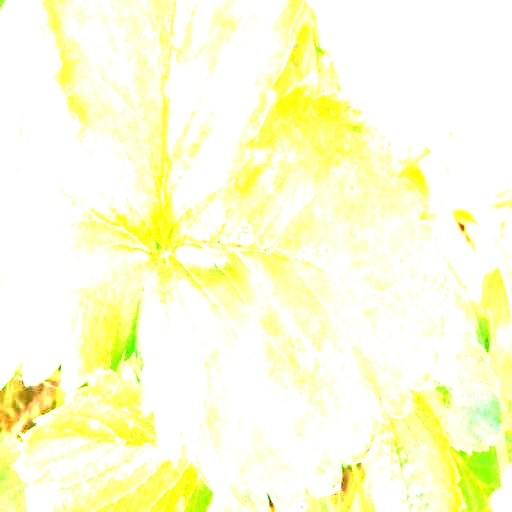Leaf Spot: (135, 70, 453, 511), (32, 0, 307, 251), (306, 0, 511, 157), (11, 360, 213, 511)
